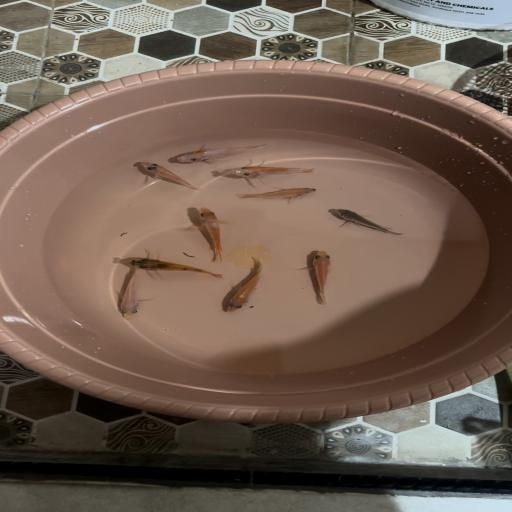nila: (104, 250, 160, 320), (217, 256, 275, 314), (183, 205, 238, 262), (120, 254, 227, 282), (298, 245, 344, 308), (324, 205, 408, 237), (173, 139, 269, 165), (127, 160, 203, 192), (226, 162, 322, 180), (231, 184, 318, 202)
